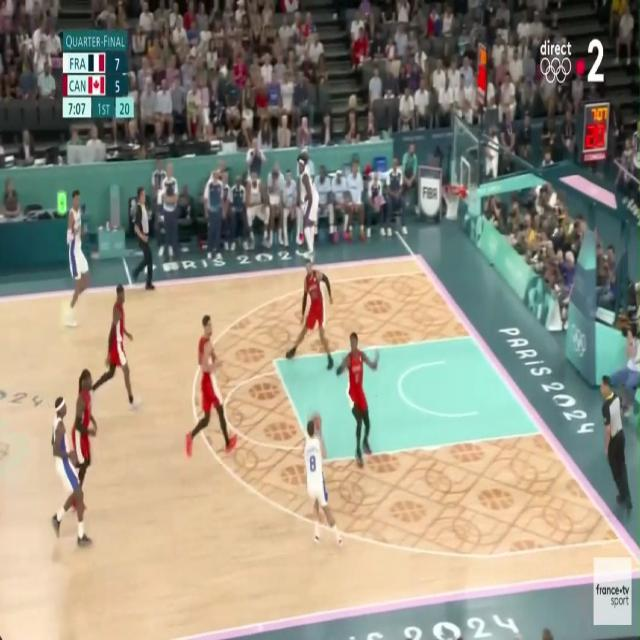ball_handler: (304, 410, 345, 556)
